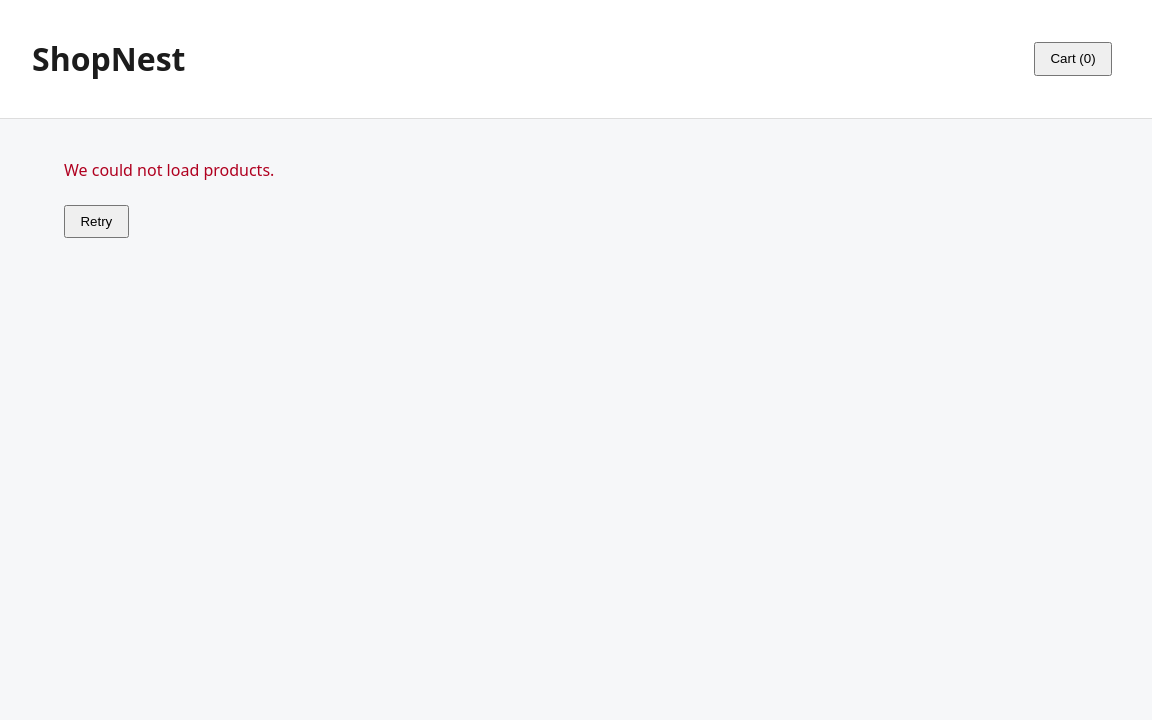
Test: catalog › shows an error with a working retry when loading fails
Expected: the text "We could not load products." is shown, [64, 159, 274, 181]
Click the button "Retry": (96, 222) [64, 205, 129, 238]
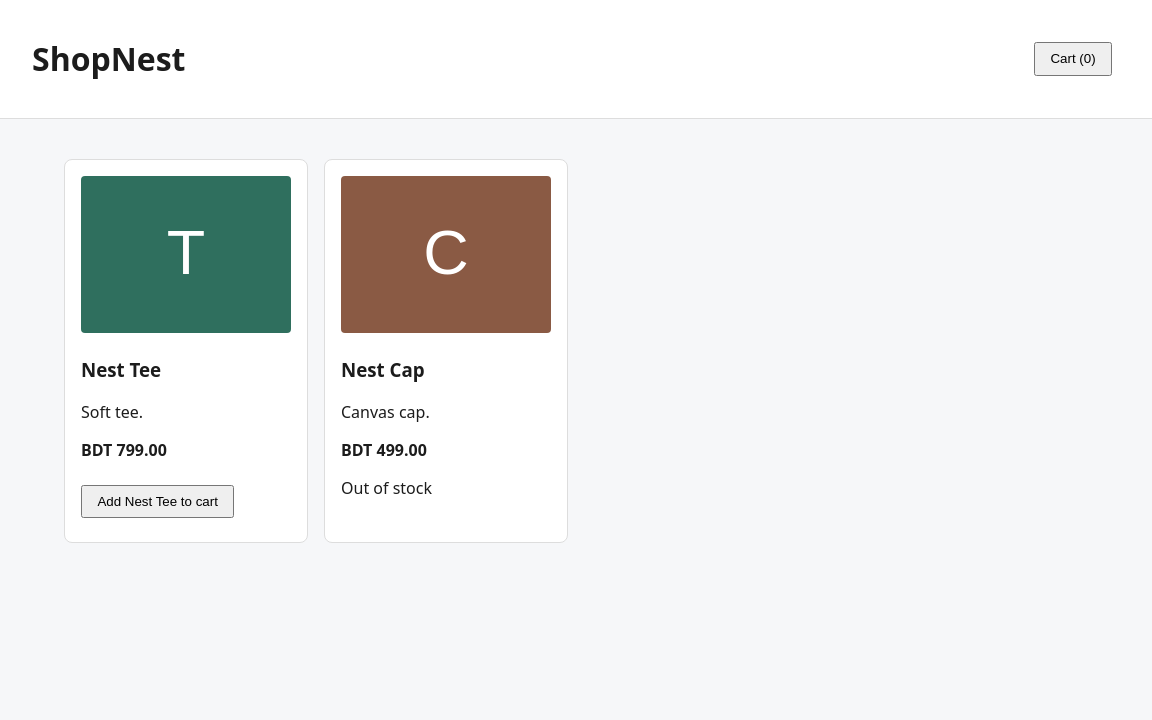
Expected: the heading "Nest Tee" is shown, [81, 357, 161, 382]
